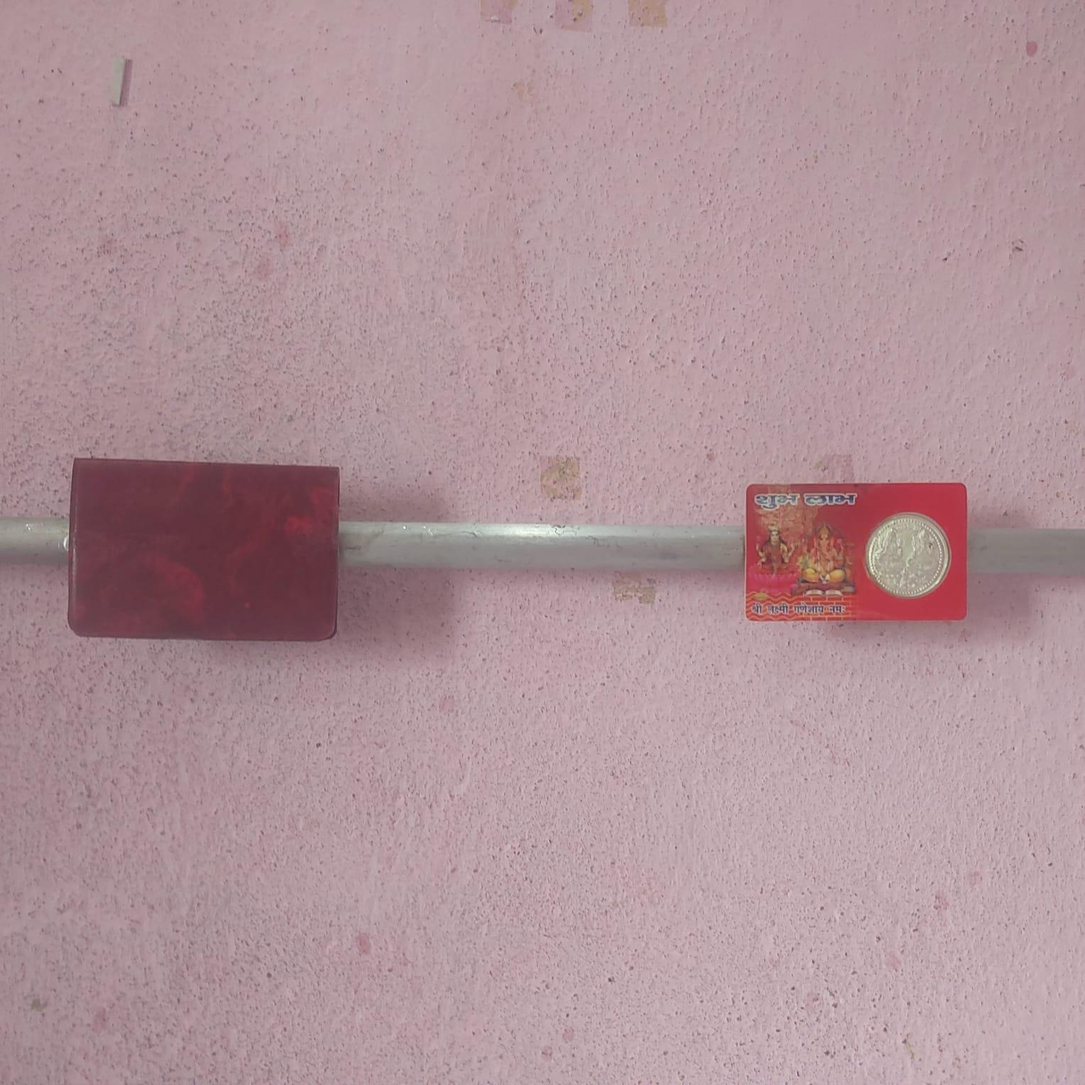blessing_card: (743, 478, 973, 628)
wallet: (71, 452, 343, 640)
